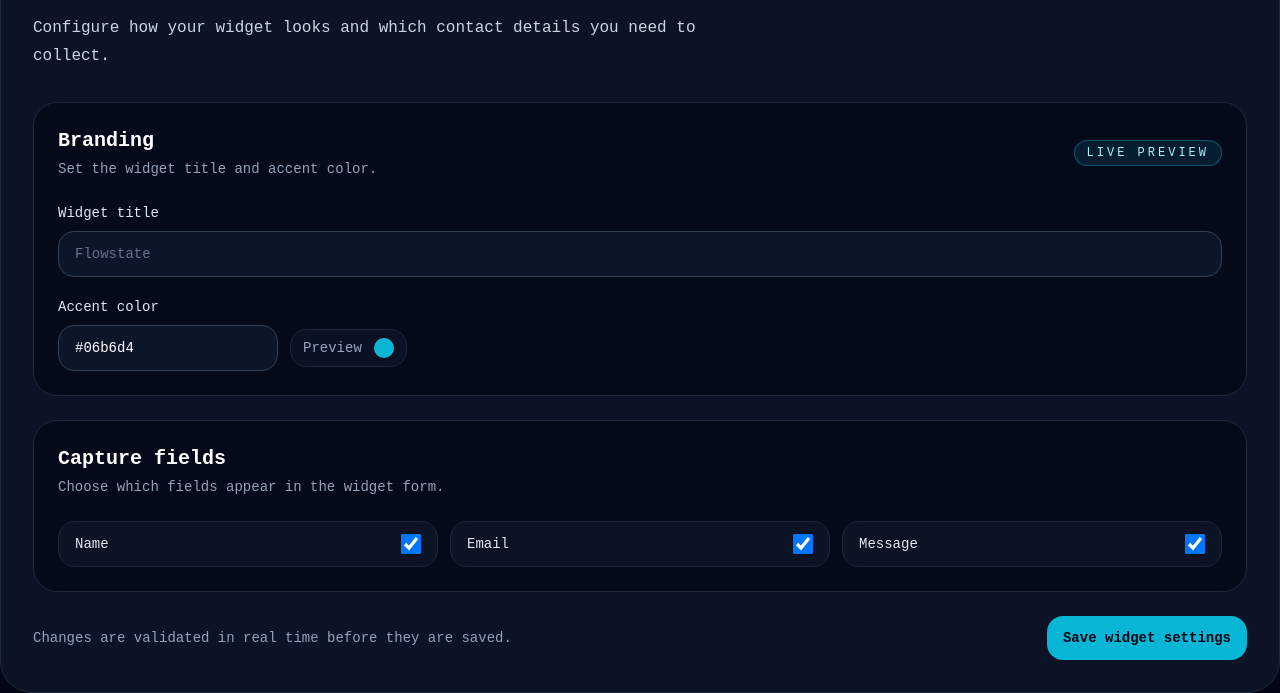
it: SettingsPage › shows a required-title validation error
(page scrolled)
Click the button "Save widget settings" at (1147, 638), box [1047,616,1247,660]
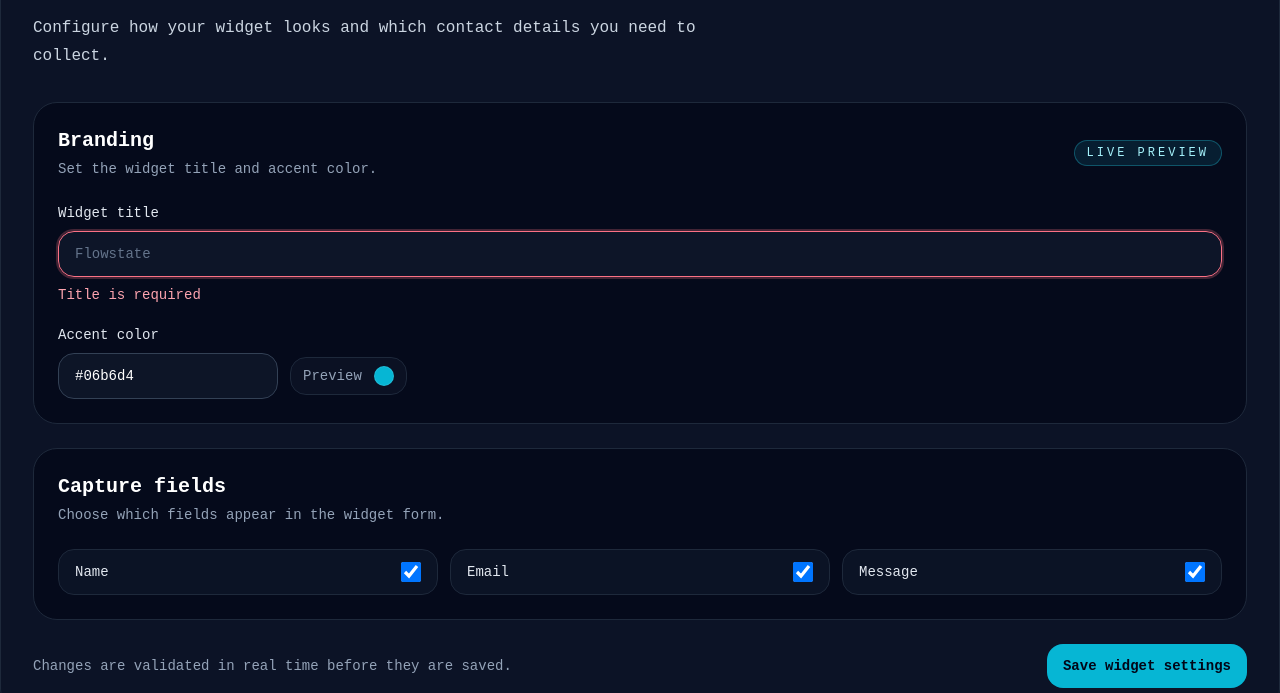
Expected: the text "Title is required" is shown, [58,287,201,303]
